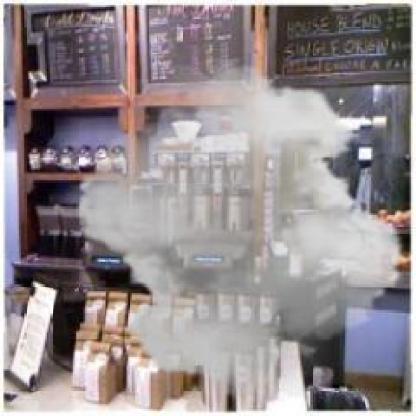Smoke: (63, 57, 414, 408)
